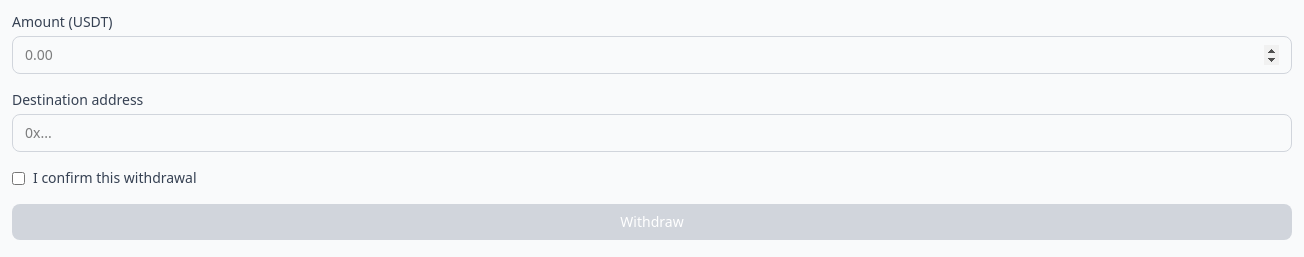
WithdrawForm › submits successfully and displays the withdrawal
In the number field labelled "Amount (USDT)": (652, 55) [12,36,1292,74], type "100"
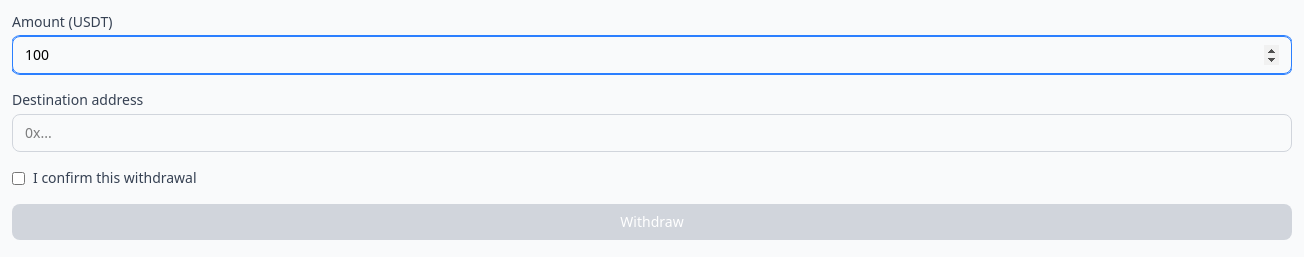
In the field labelled "Destination address": (652, 133) [12,114,1292,152], type "0xabc123"
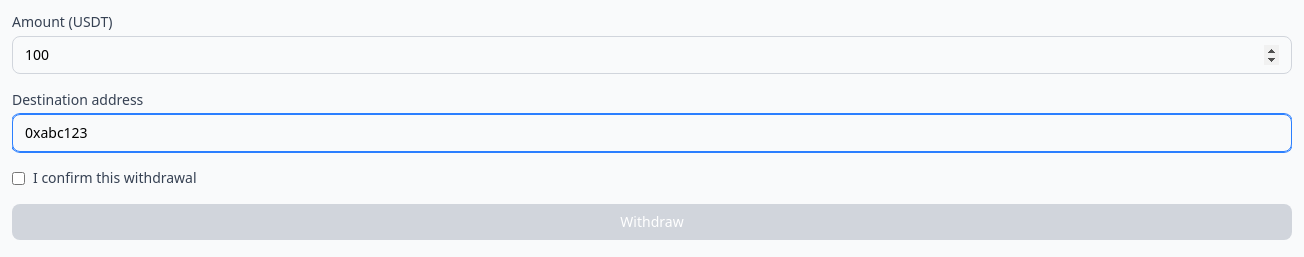
Click the checkbox labelled "I confirm this withdrawal": (18, 178) [12,172,25,184]
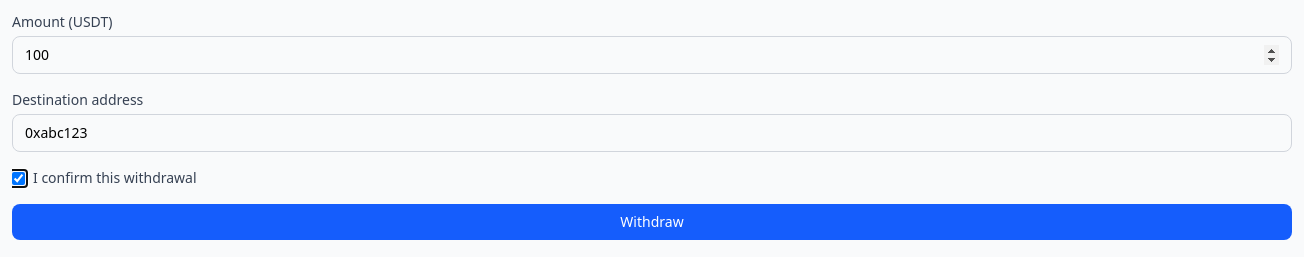
Click the button "Withdraw": (652, 222) [12,204,1292,240]
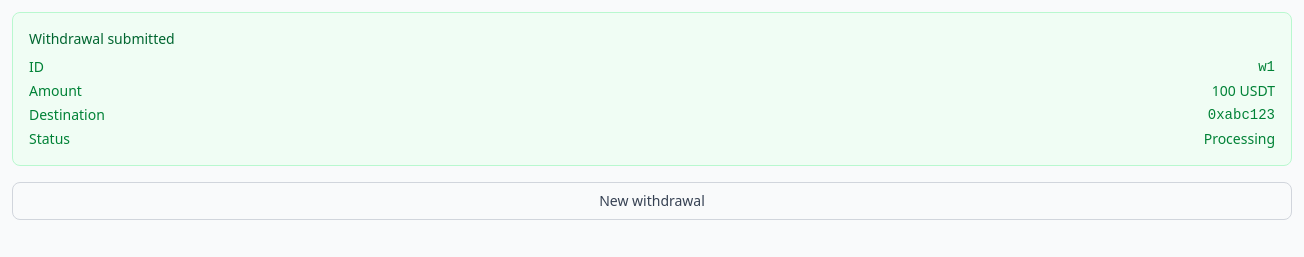
expect the heading "Withdrawal submitted" is shown: met, box [29,29,175,48]
expect the text "w1" is shown: met, box [1258,57,1275,77]
expect the text "100 USDT" is shown: met, box [1212,81,1275,101]
